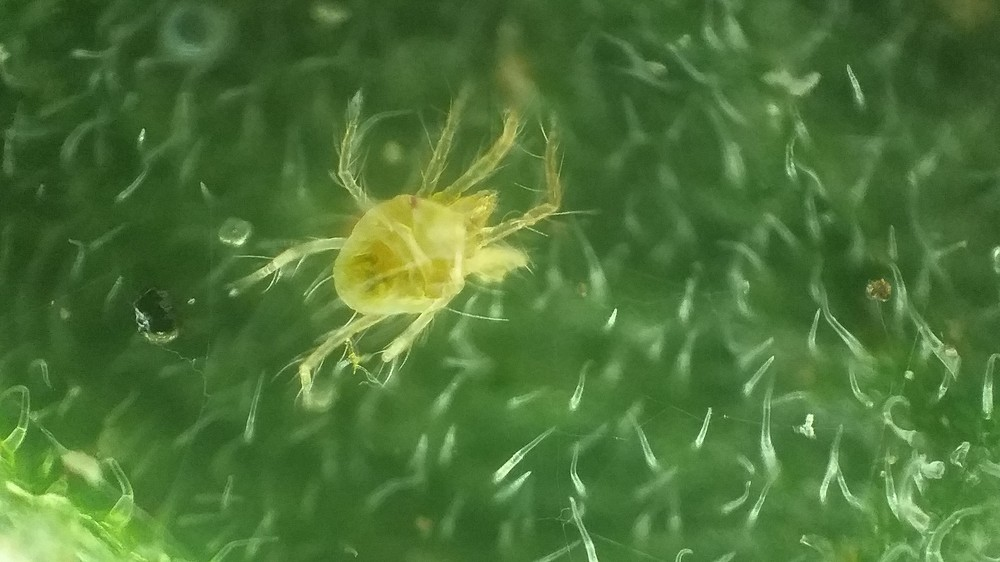Aracnido Rojo: (226, 78, 611, 395)
